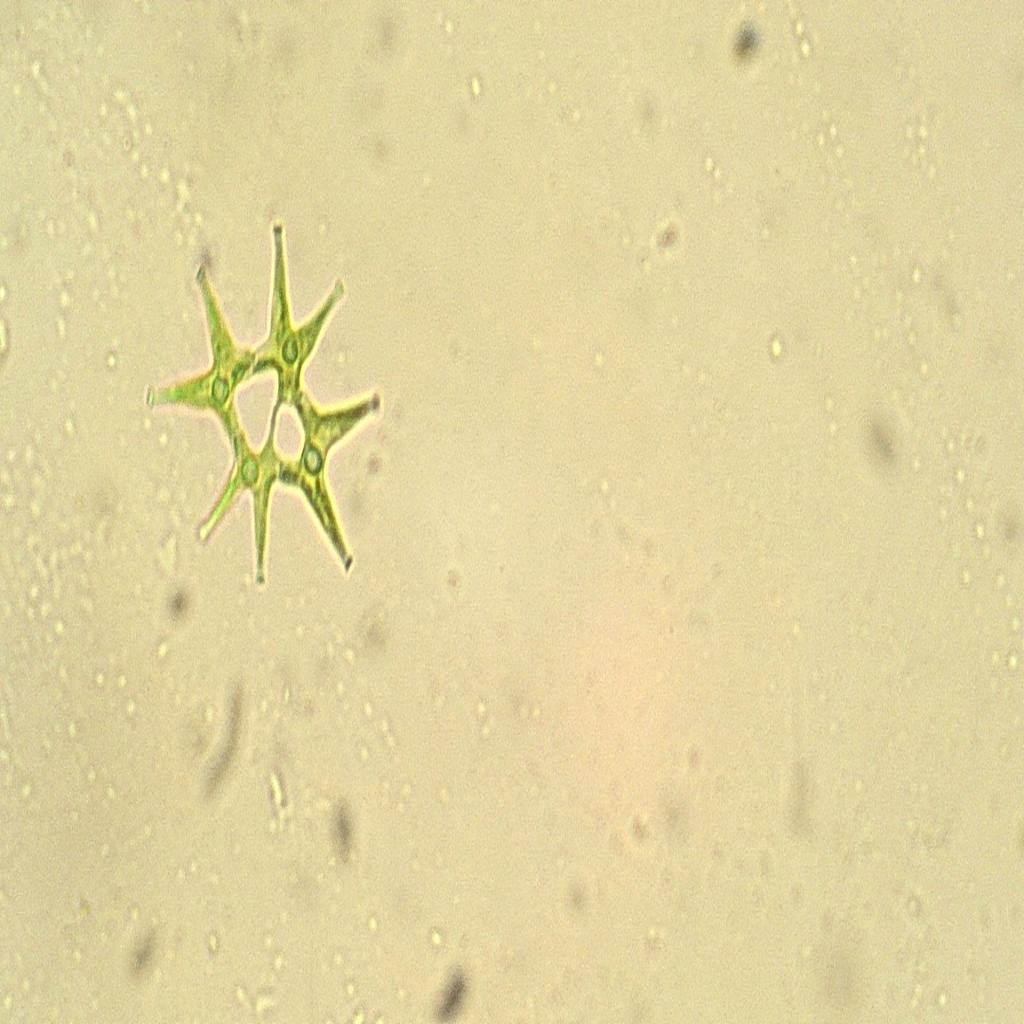Pediastrum_75FO: (141, 209, 402, 602)
